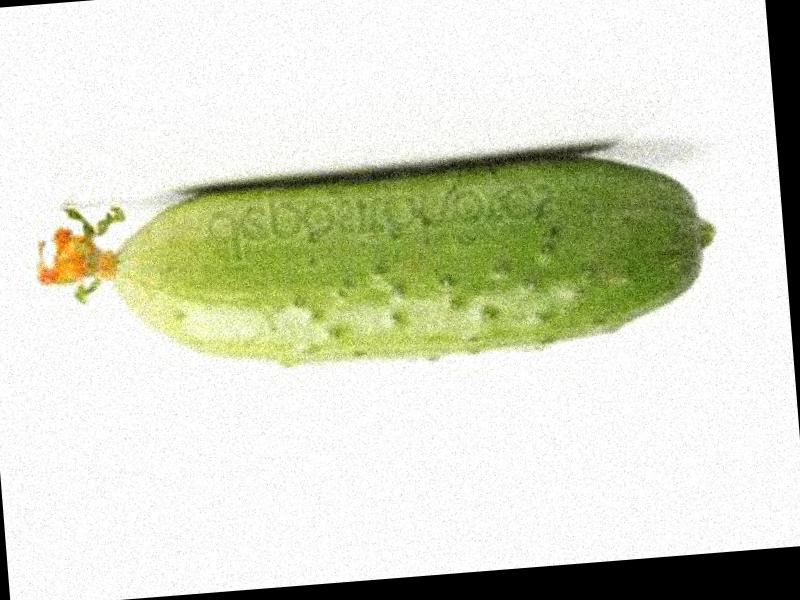Cucumber: (35, 139, 725, 387)
